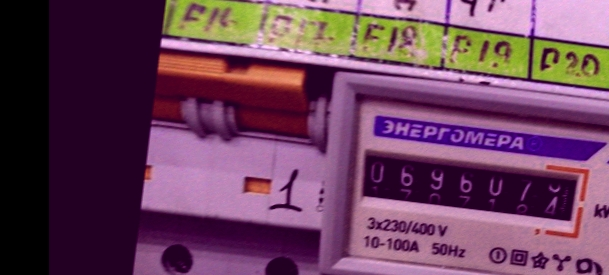0: (368, 157, 388, 183), (487, 170, 505, 197)
4: (542, 192, 561, 217)
6: (457, 167, 477, 193), (398, 161, 417, 187)
7: (517, 176, 535, 203)
9: (427, 165, 446, 190)
screen: (346, 133, 595, 236)
